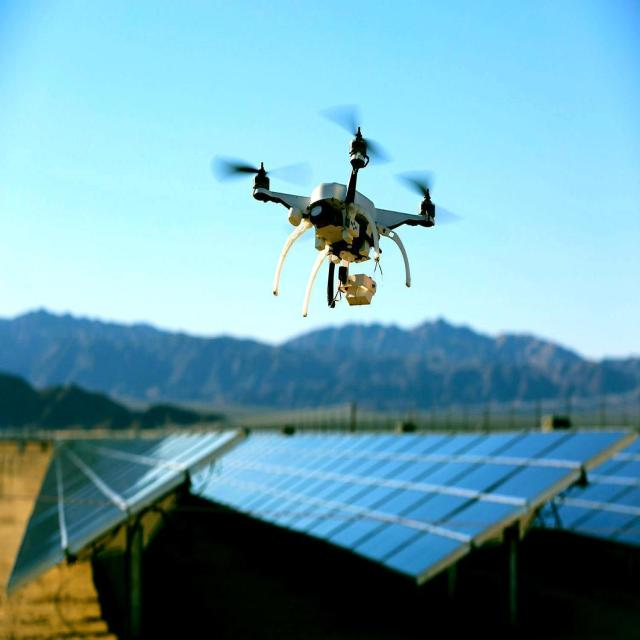drone: (252, 127, 438, 321)
